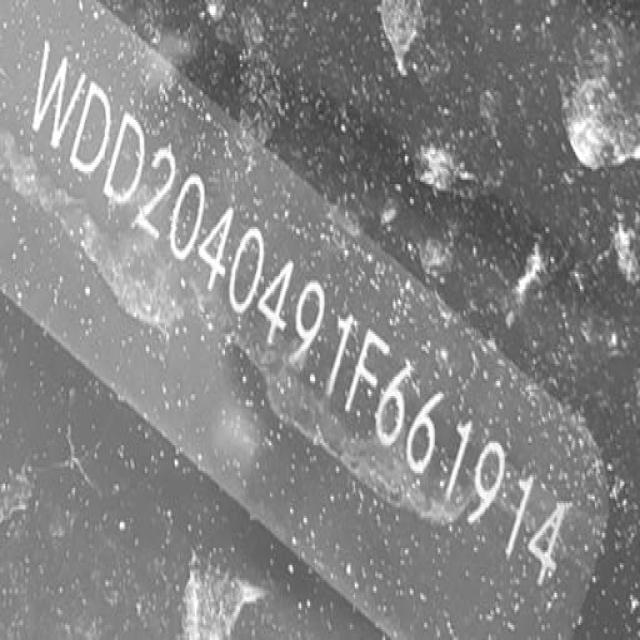0: (169, 168, 207, 262), (228, 225, 264, 312)
1: (505, 467, 533, 565), (325, 312, 355, 394), (444, 412, 471, 493)
2: (135, 146, 176, 238)
4: (525, 501, 567, 588), (197, 205, 235, 292), (260, 255, 293, 344)
6: (402, 388, 443, 474), (378, 365, 406, 443)
9: (470, 440, 507, 530), (288, 282, 326, 362)
D: (100, 112, 147, 206), (66, 85, 115, 171)
F: (344, 330, 390, 412)
W: (29, 42, 86, 154)
